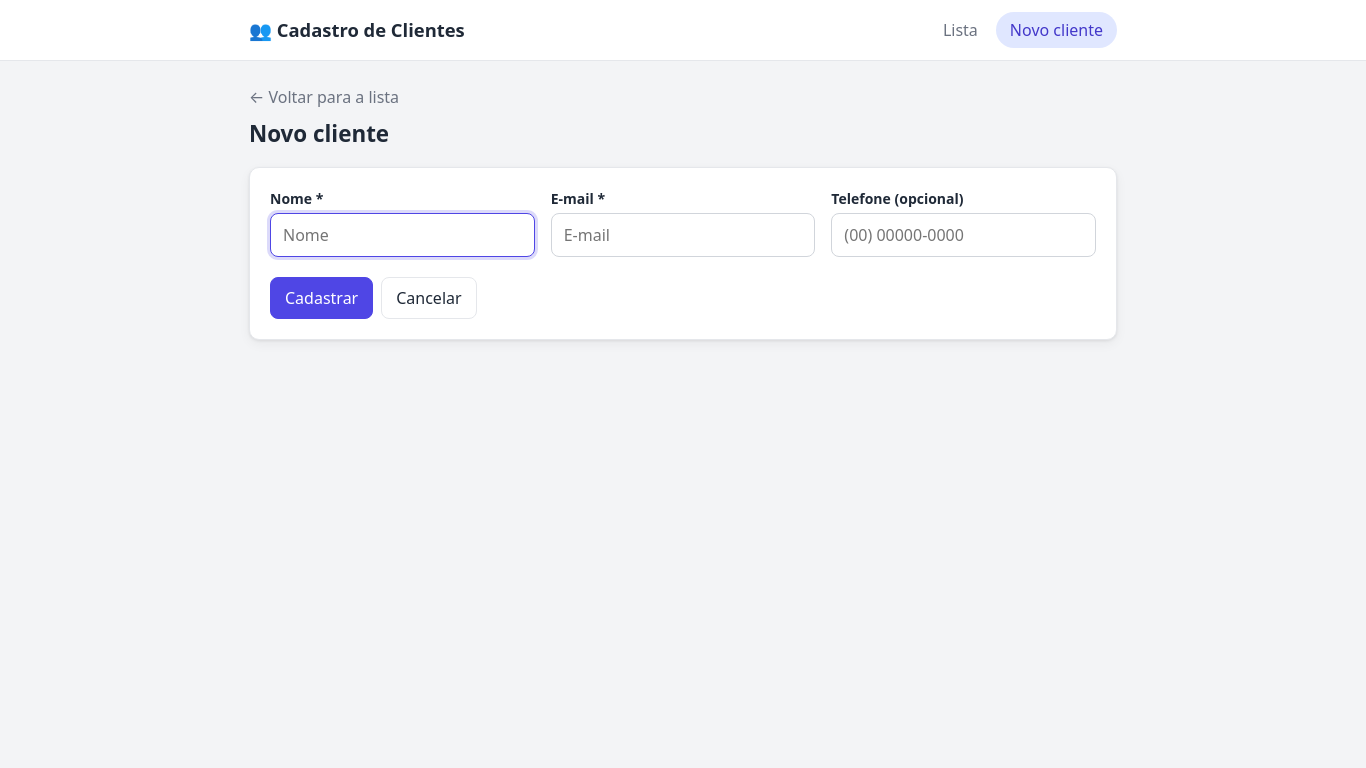
it: Cadastro › cadastra um cliente e volta para a lista
The image size is (1366, 768).
Type "Ana" into the field with placeholder "Nome" at (403,235), box [270,213,535,257]
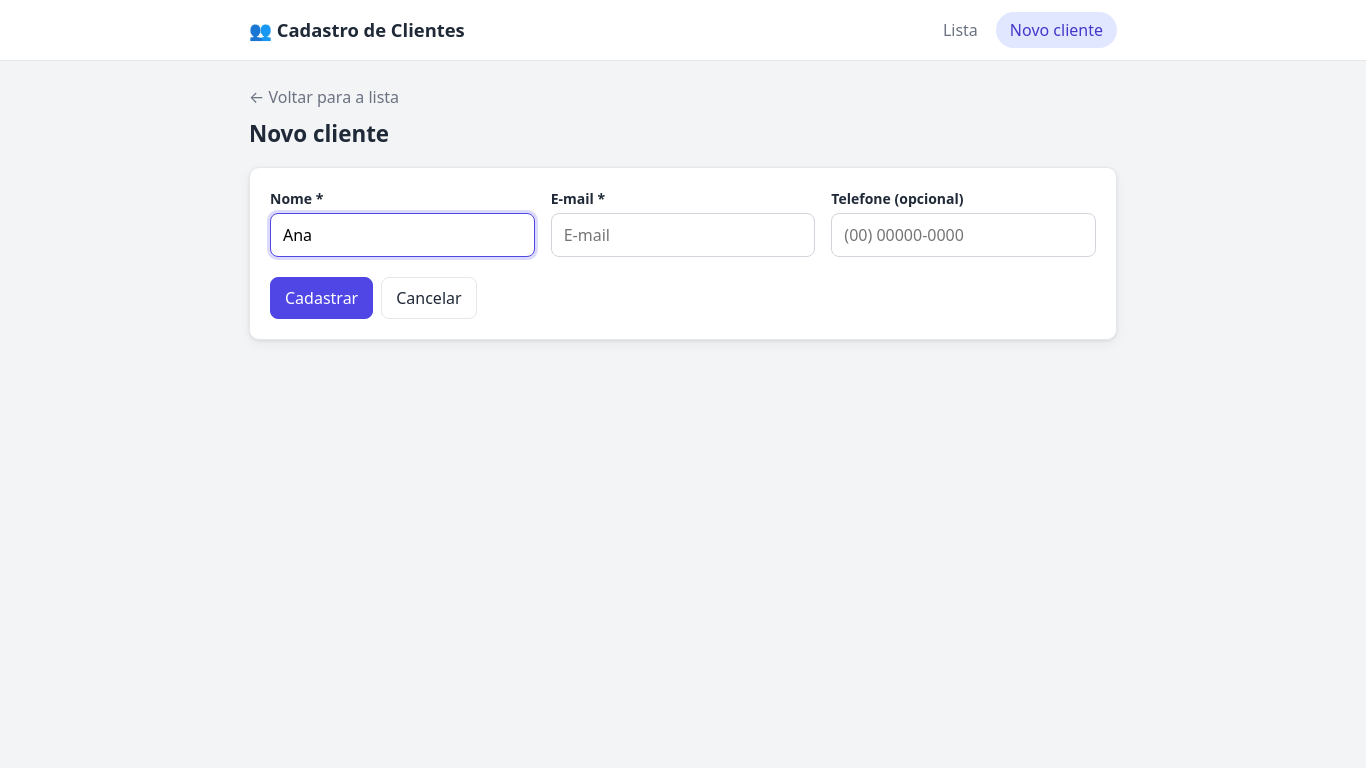
Type "ana@email.com" into the field with placeholder "E-mail" at (684,235), box [551,213,816,257]
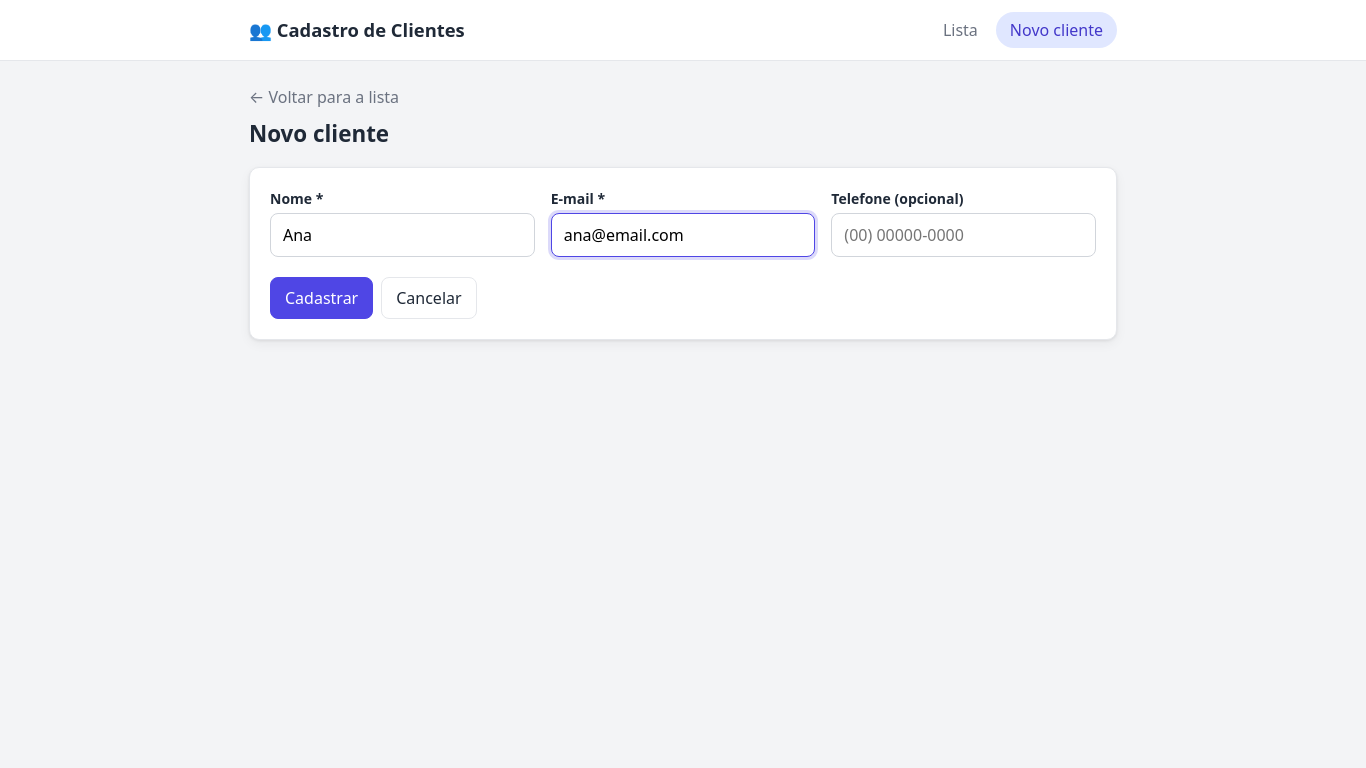
Click the button "Cadastrar" at (322,298), box [270,277,373,319]
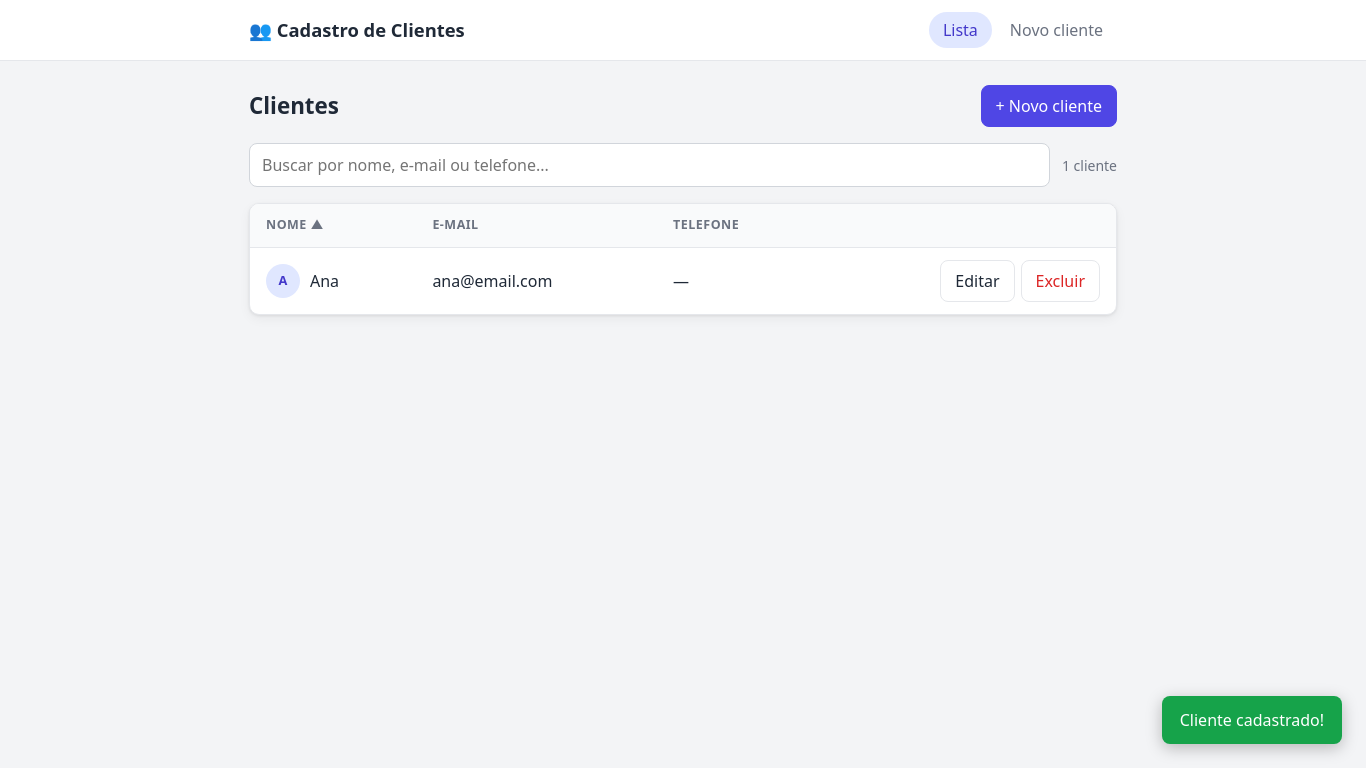
expect the text "Cliente cadastrado!" is shown: met, box [1162,696,1342,744]
expect the text "Ana" is shown: met, box [310,270,339,292]
